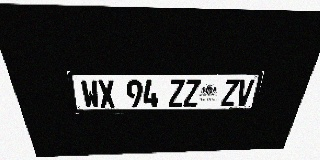4: (143, 79, 158, 107)
9: (126, 80, 143, 108)
V: (235, 79, 255, 106)
W: (80, 80, 100, 108)
X: (97, 80, 116, 108)
Z: (221, 79, 240, 106), (183, 79, 201, 107), (168, 79, 185, 107)
